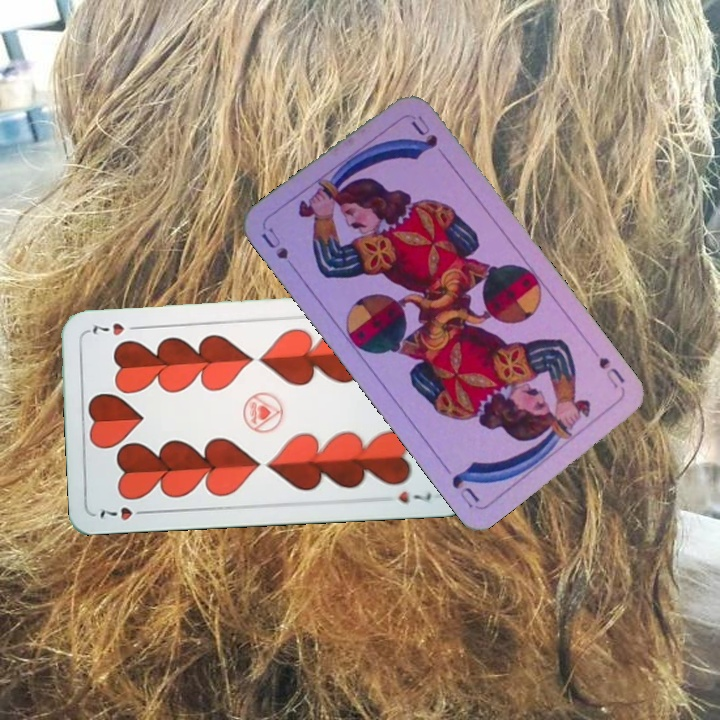H7: (95, 503, 153, 523)
SU: (257, 223, 302, 277), (594, 353, 628, 394)
